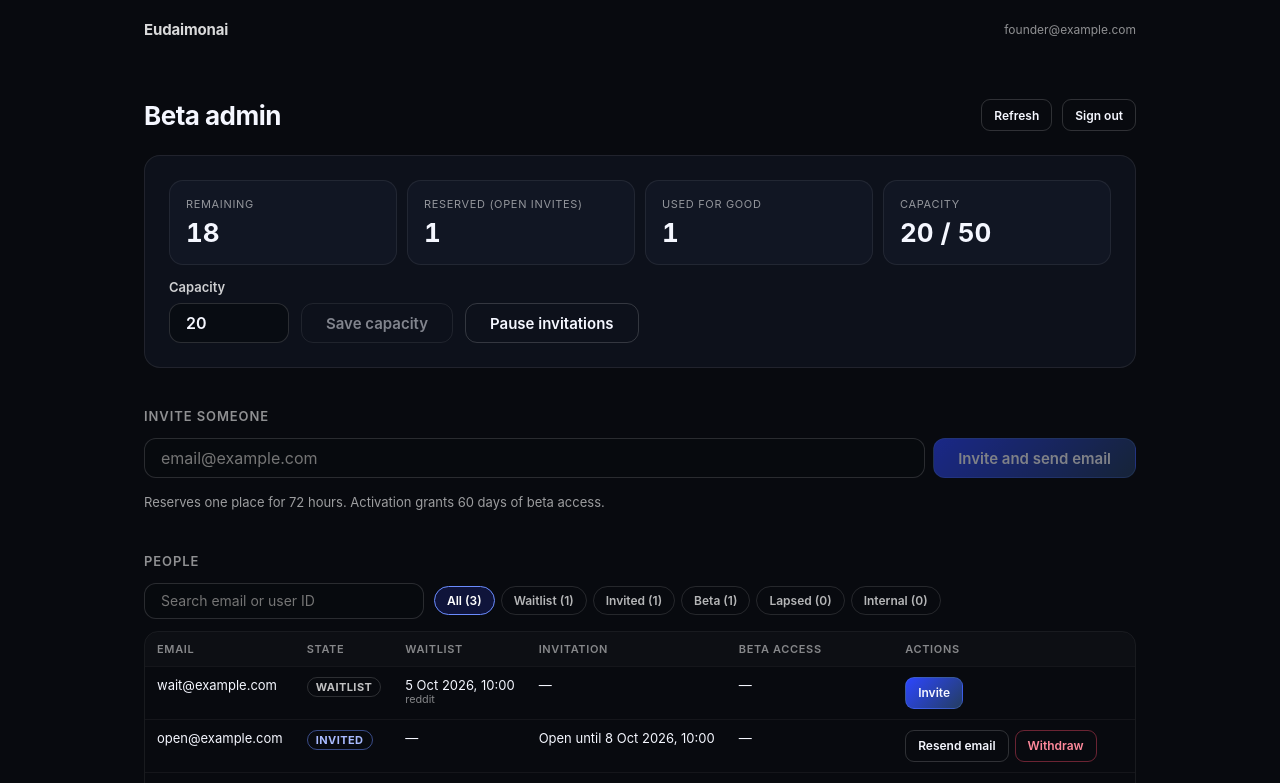
it: AdminConsole › says when the invitation exists but the email failed
This screenshot has width=1280, height=783.
Click the button "Invite" at (934, 693), box left=905, top=677, right=963, bottom=709
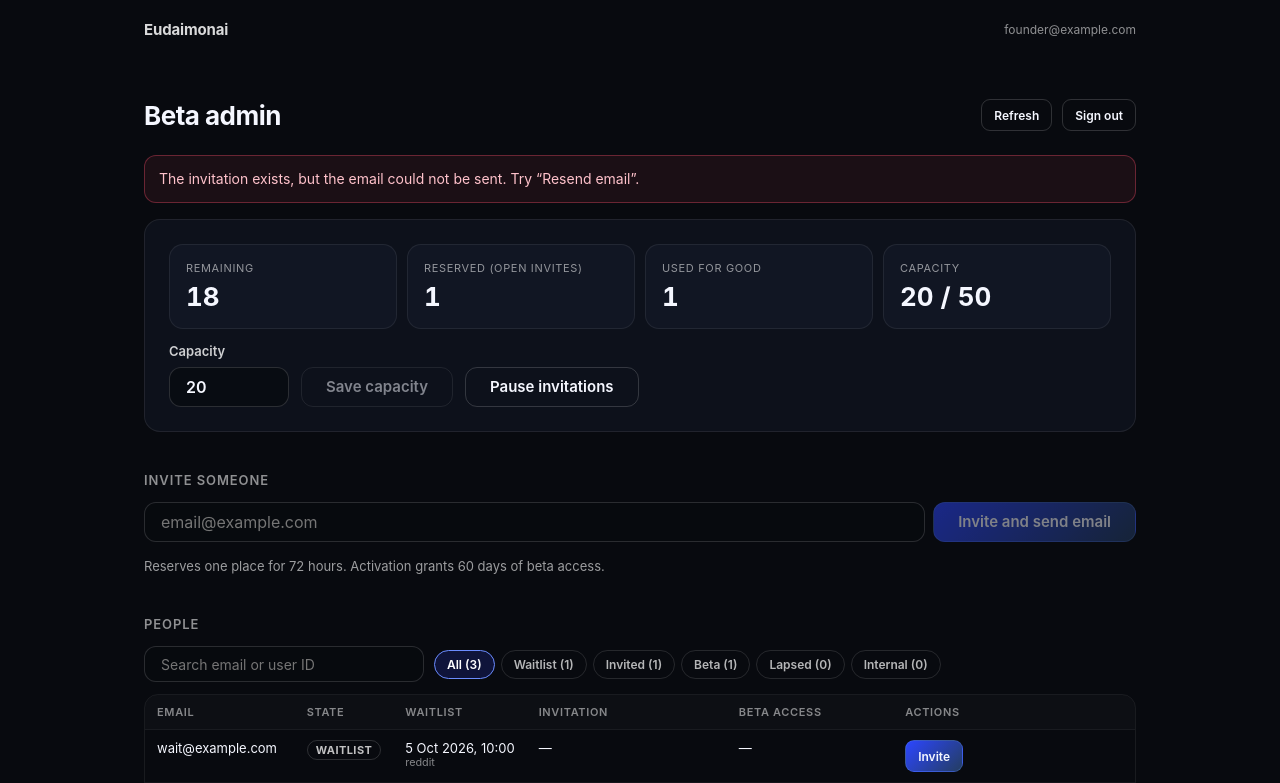
Now the message shows "could not be sent", box left=159, top=170, right=639, bottom=187
